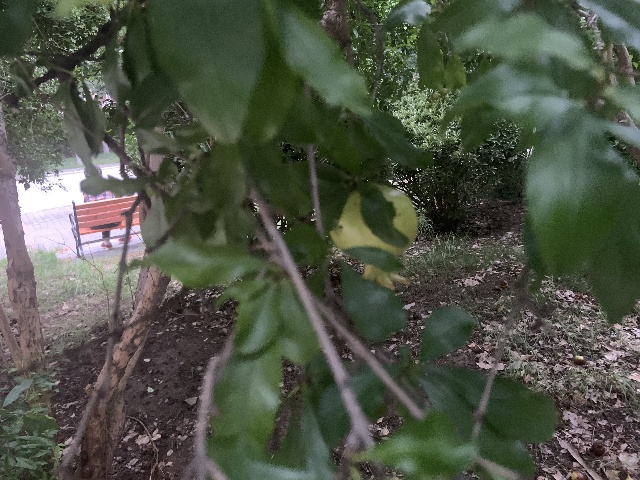mid-growth: (328, 182, 419, 288), (430, 91, 439, 103), (439, 87, 447, 99)
